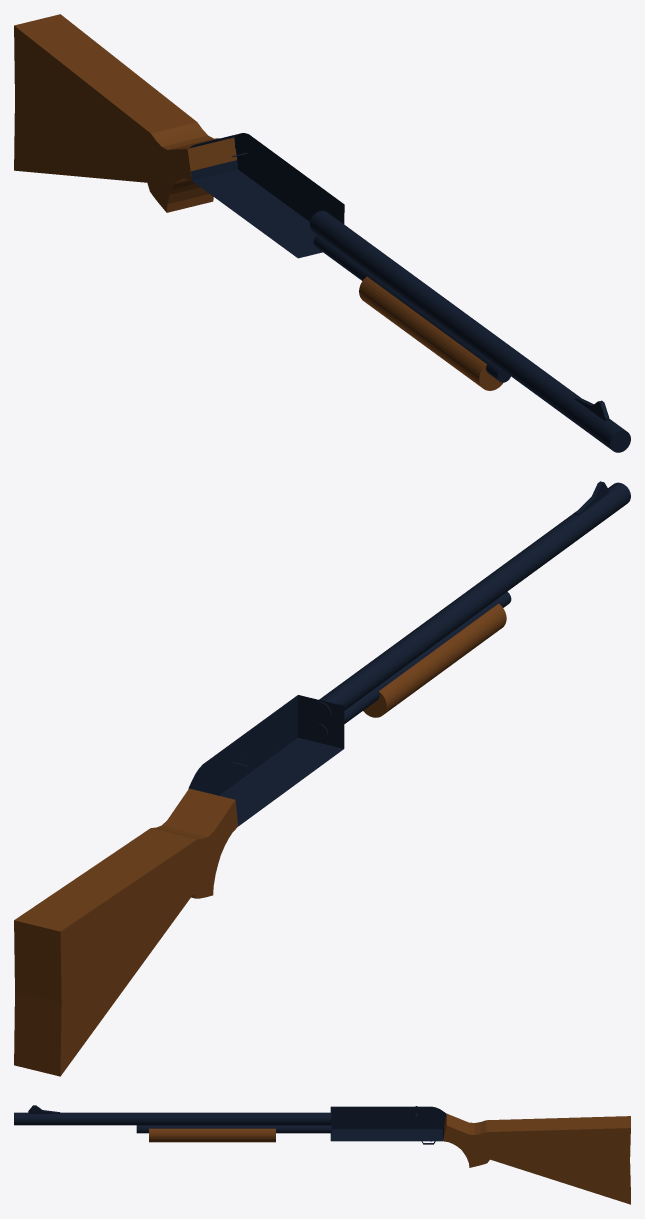
File: md_PumpShotgun.fbx
The picture shows the model from 3 angles, top to bottom: view 1: azimuth 30°, elevation 25°; view 2: azimuth 150°, elevation 25°; view 3: azimuth 270°, elevation 25°; orthographic projection. The views are drawn at different scales.
Visible parts, largest first — view 1: Stock, Barrel, Receiver, Slide, SlideBase; view 2: Stock, Receiver, Barrel, Slide, SlideBase; view 3: Stock, Barrel, Receiver, Slide, SlideBase.
Part boxes in pixels (<box>): Stock: <box>14,14,236,212</box>; Barrel: <box>310,210,630,452</box>; Receiver: <box>189,133,344,258</box>; Slide: <box>359,276,503,390</box>; SlideBase: <box>313,235,510,382</box>; Stock: <box>14,788,238,1076</box>; Receiver: <box>188,695,344,826</box>; Barrel: <box>310,482,630,724</box>; Slide: <box>363,603,506,717</box>; SlideBase: <box>313,591,511,739</box>; Stock: <box>443,1113,630,1204</box>; Barrel: <box>14,1112,331,1125</box>; Receiver: <box>330,1106,446,1141</box>; Slide: <box>149,1128,275,1142</box>; SlideBase: <box>136,1125,331,1133</box>.
Bounding box in the file's own units: 34.17 × 121 × 729.
